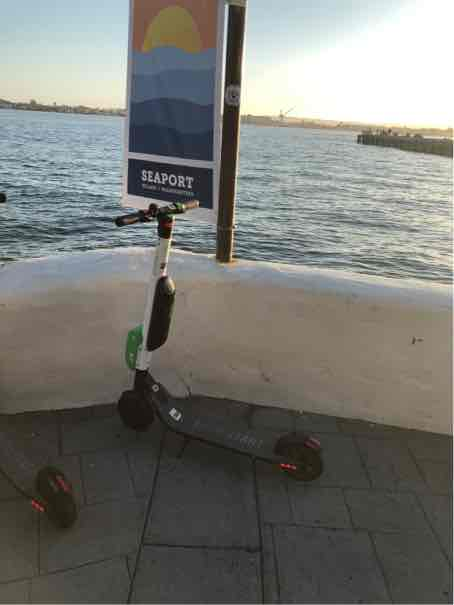scooter: (106, 195, 332, 484)
